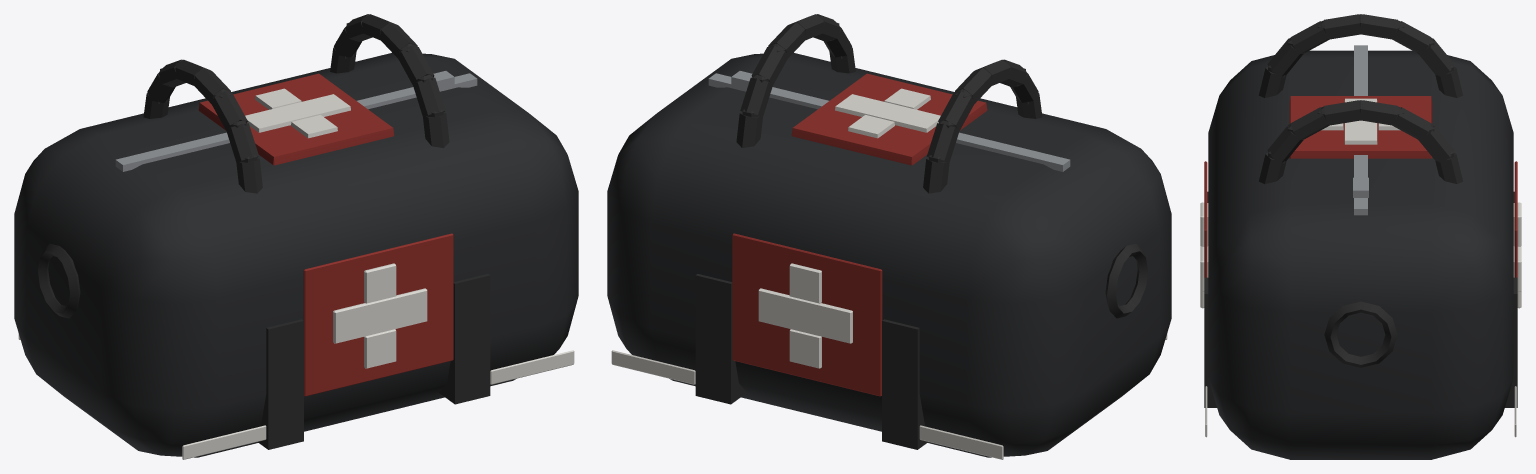
Rendered from prop_deploy_doctor_bag.glb.
3 renders of one model, left to right at view 1: azimuth 30°, elevation 25°; view 2: azimuth 150°, elevation 25°; view 3: azimuth 270°, elevation 25°, orthographic. The views are drawn at different scales.
Visible parts, largest first — view 1: Bag; view 2: Bag; view 3: Bag.
Part boxes in pixels (box(x1,y1,x2,y2)): Bag: box(14, 14, 578, 459); Bag: box(607, 14, 1171, 459); Bag: box(1200, 14, 1521, 459).
Bounding box in the file's own units: 0.52 × 0.35 × 0.316.
